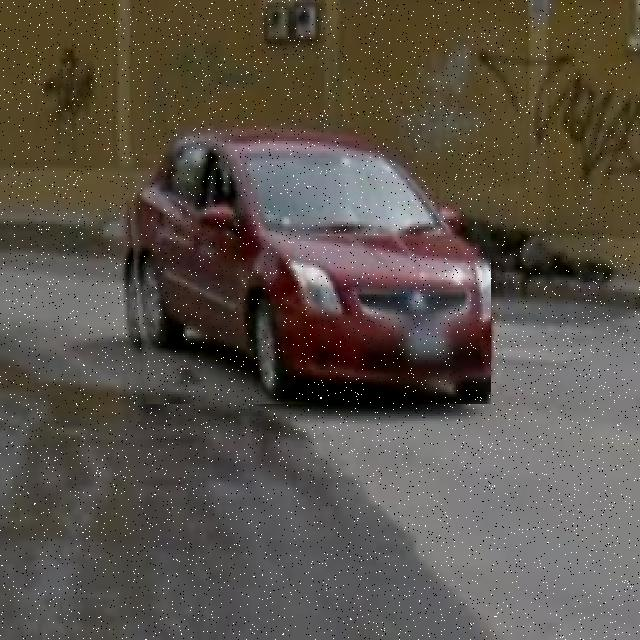car: (123, 130, 492, 405)
